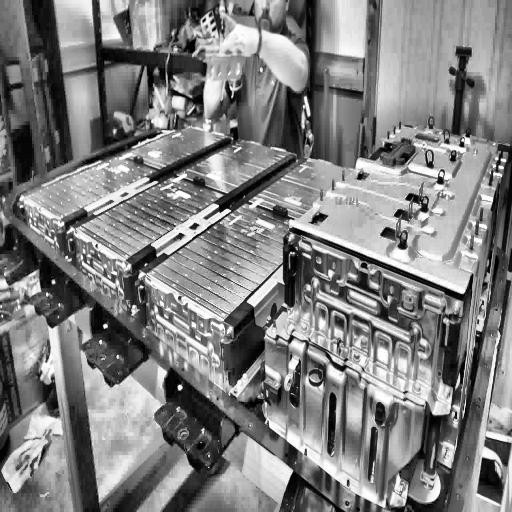battery_module: (146, 201, 314, 320), (76, 174, 226, 263), (25, 155, 159, 221), (176, 138, 290, 193), (122, 125, 223, 168)
